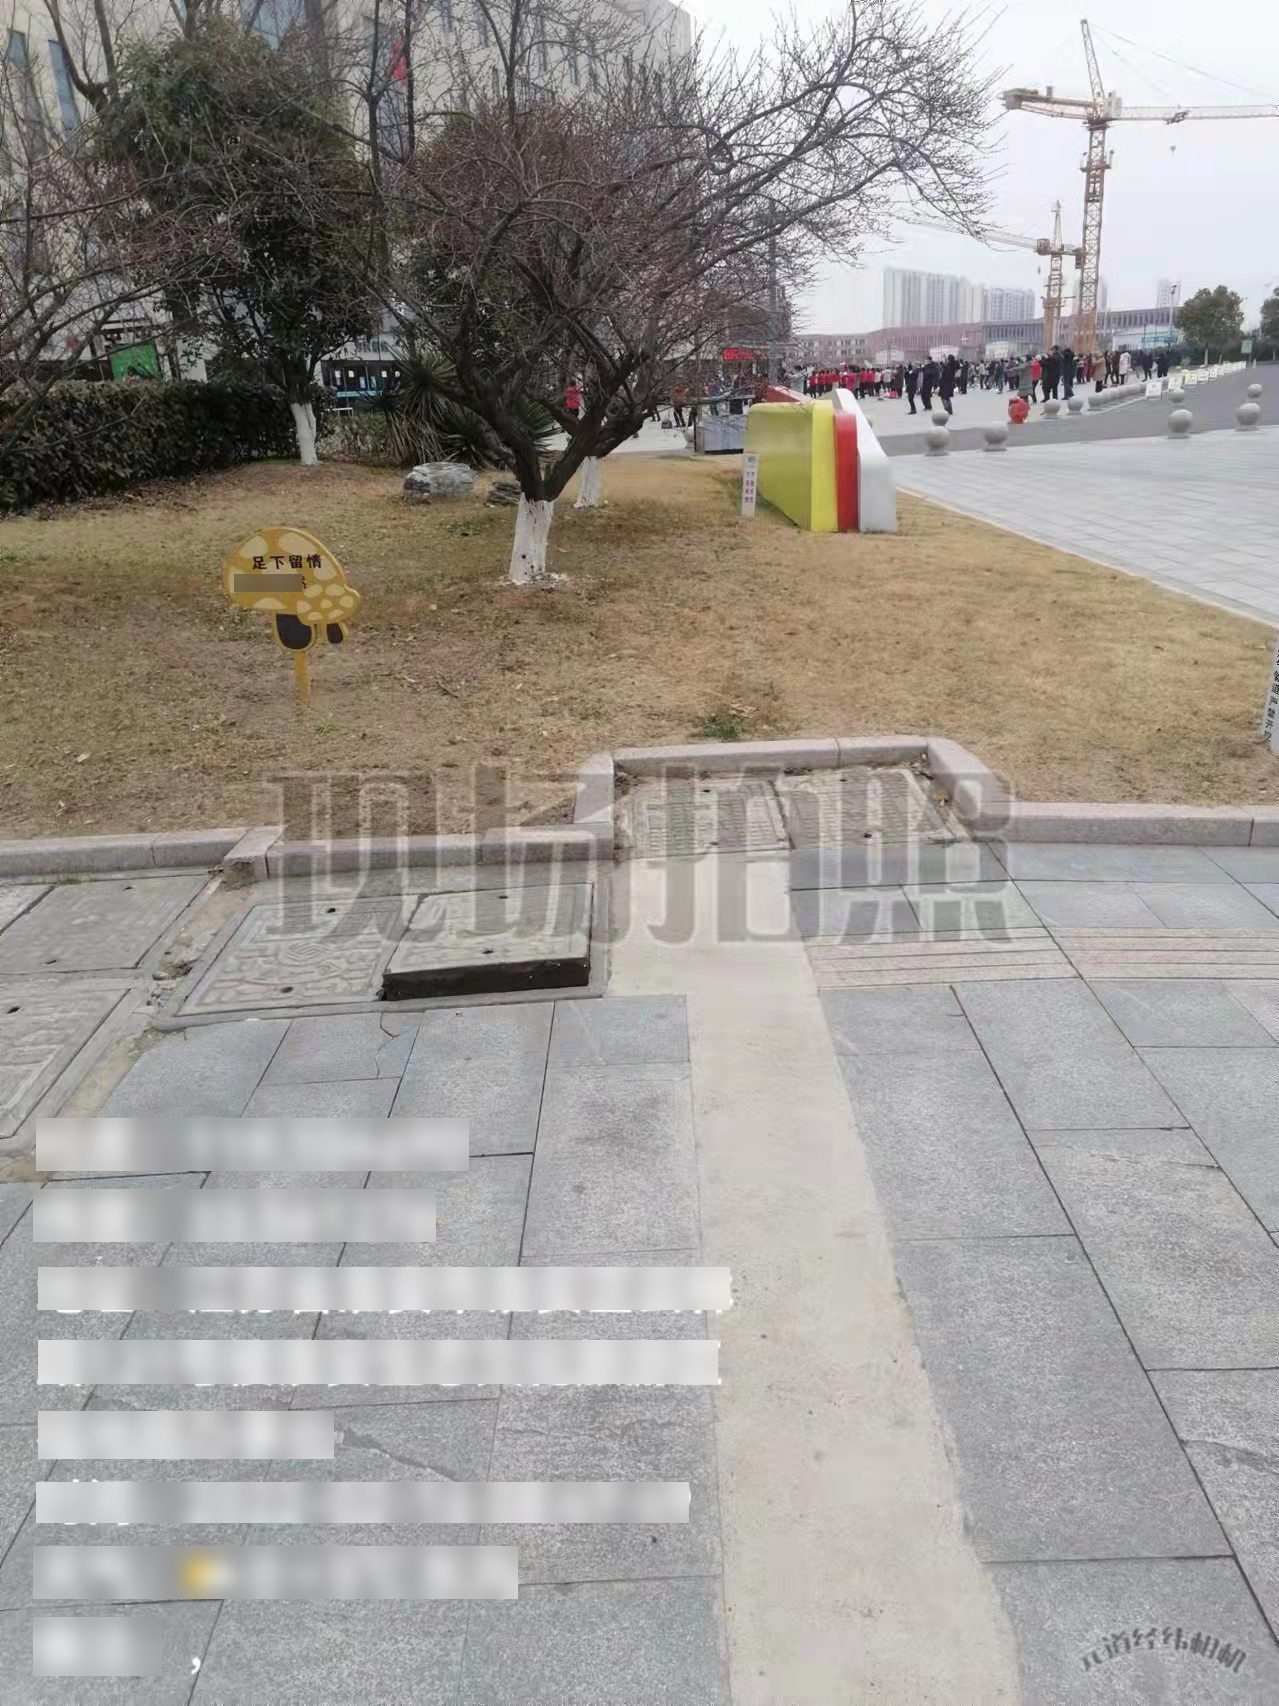uncovered: (165, 889, 615, 1016)
